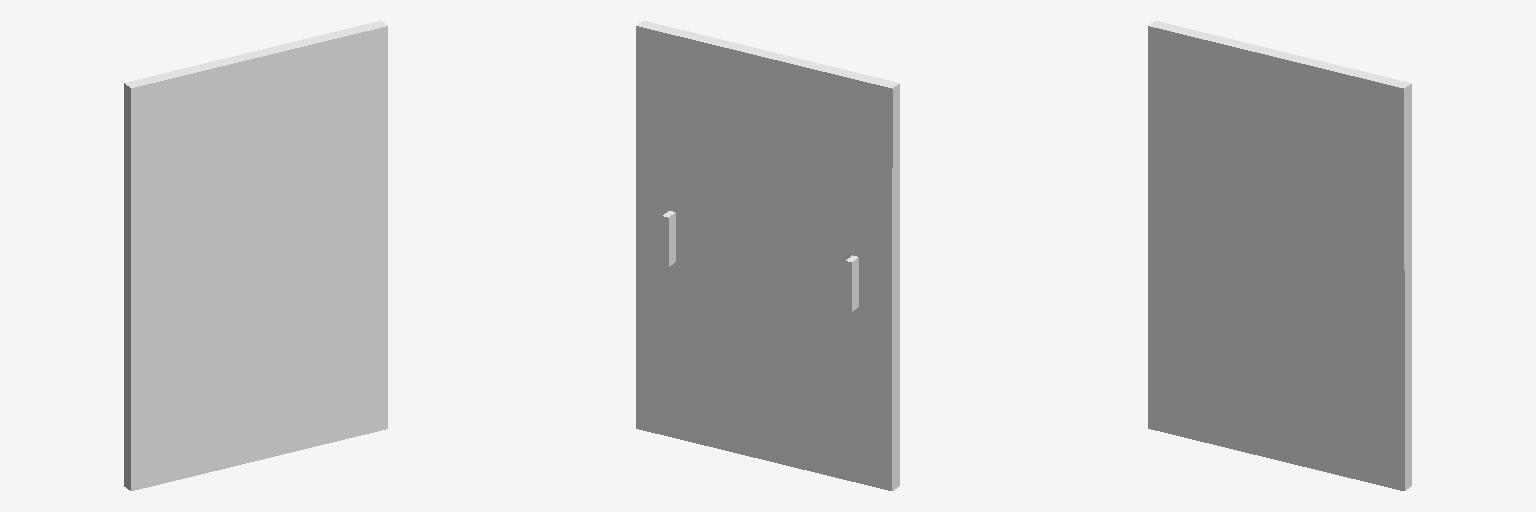
The robot description file, URDF, robot "walls":
<?xml version="1.0" encoding="utf-8"?>
<robot name="walls">
  <link name="base_link">
    <contact>
      <lateral_friction value="0.5"/>
      <rolling_friction value="0.0"/>
      <contact_cfm value="0.0"/>
      <contact_erp value="1.0"/>
    </contact>
    <inertial>
      <origin rpy="0 0 0" xyz="0 0 0"/>
      <mass value="0"/>
      <inertia ixx="0" ixy="0" ixz="0" iyy="0" iyz="0" izz="0"/>
    </inertial>
    <visual>
      <origin rpy="1.57 0 3.14" xyz="0 0 0"/>
      <geometry>
        <mesh filename="models/meshes/cupboard/cupboard.obj" scale="10 10 10"/>
      </geometry>
      <material name="tray_material">
        <color rgba="1 1 1 1"/>
      </material>
    </visual>
<!--     <collision concave="yes">
      <origin rpy="1.57 0 2.14" xyz="0 0 0"/>
      <geometry>
        <mesh filename="models/meshes/cupboard/cupboard.obj" scale="10 10 10"/>
      </geometry>
    </collision> -->
  </link>
</robot>

--- Facts derived from the render (not from the file) ---
3 views of the same robot in one strip: view 1: azimuth 30°, elevation 25°; view 2: azimuth 150°, elevation 25°; view 3: azimuth 330°, elevation 25° (orthographic).
Model walls with 1 links and 0 joints (none), rooted at base_link, posed all joints at 0.
Visible links, largest first — view 1: base_link; view 2: base_link; view 3: base_link.
Boxes of the visible links, left/top/right/bottom form: base_link: left=124, top=21, right=387, bottom=490; base_link: left=636, top=21, right=899, bottom=490; base_link: left=1148, top=21, right=1411, bottom=490.
Bounding box of the posed robot: 1 × 0.1021 × 1.5 m (x, y, z).
1 mesh visuals loaded from 1 distinct referenced files (1 OBJ).